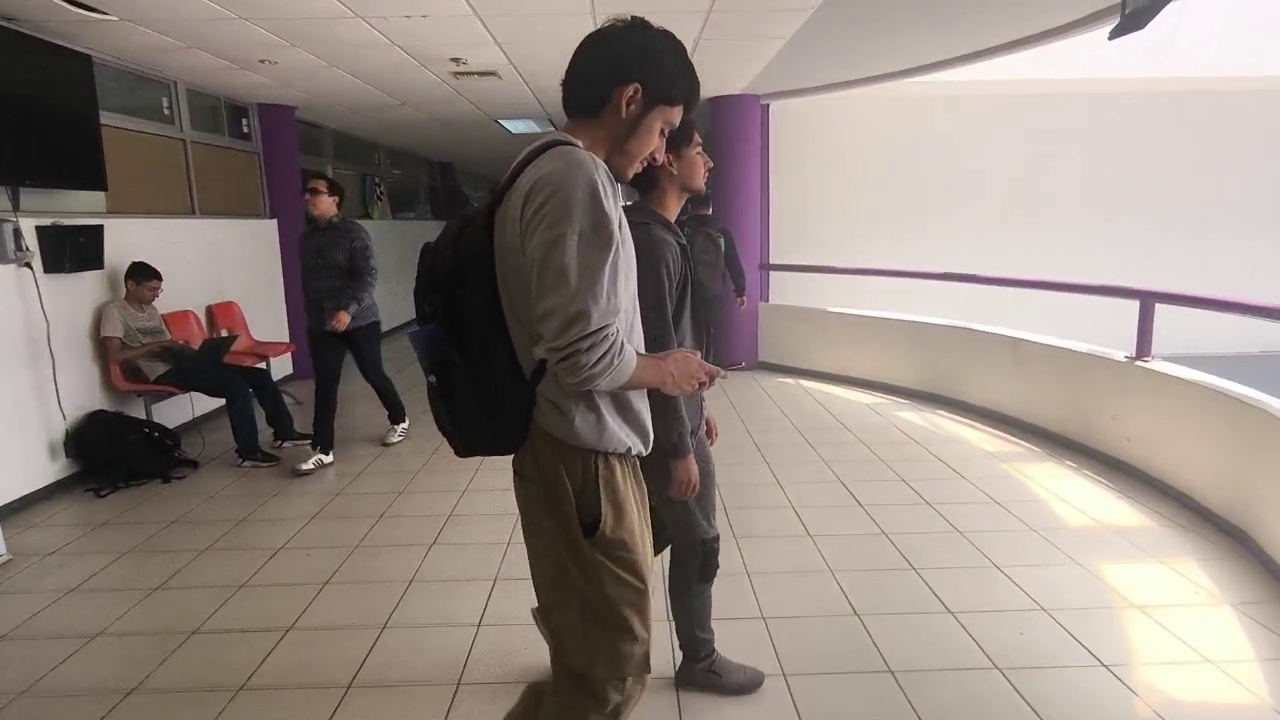mixto2: (712, 352, 749, 372)
